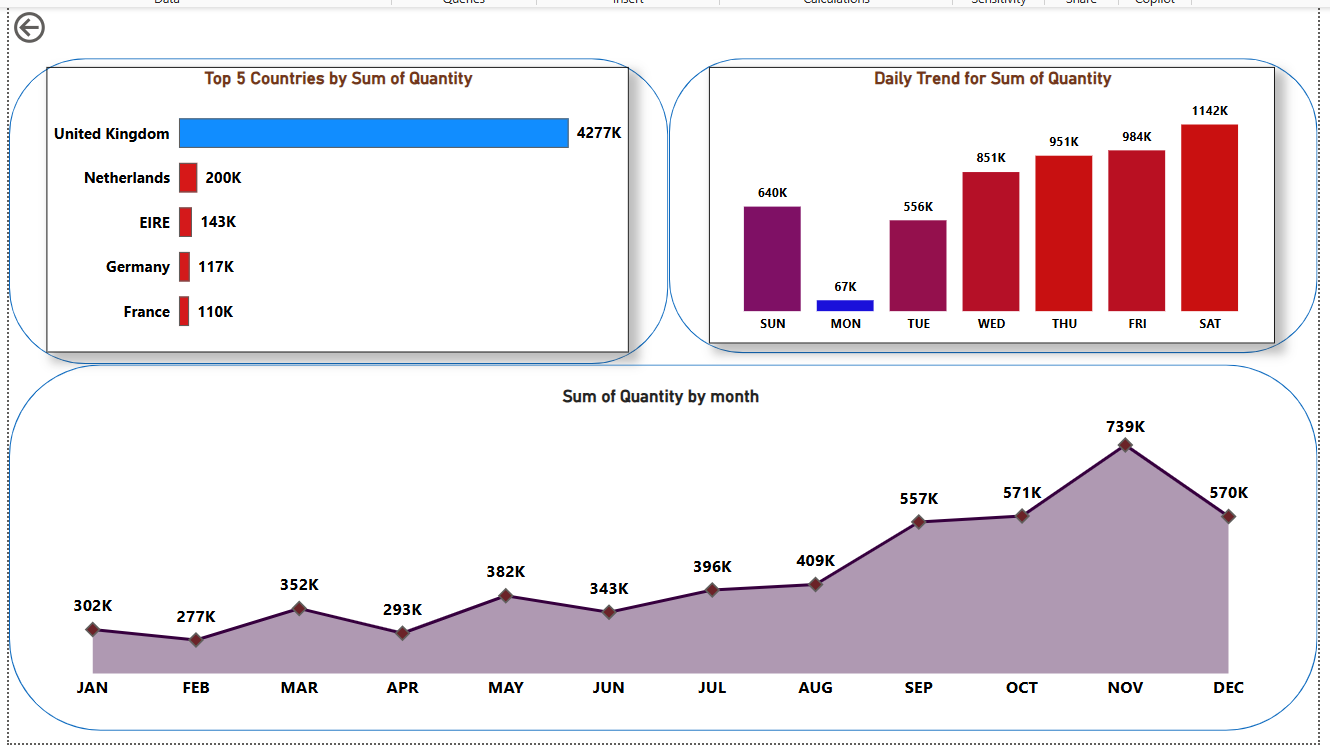

The dashboard page shown, as its layout file describes it:
{"tool":"powerbi","page":{"name":"Page 3","canvas":[1280,720],"ordinal":2},"visuals":[{"type":"shape","box":[0,50.1,645.7,299.6],"z":0},{"type":"barChart","title":"Top 5 Countries by Sum of Quantity","fields":{"Category":["Online Retail.Country"],"Y":["Sum(Online Retail.Quantity)"]},"box":[36.7,58.7,569.8,278.8],"z":1000},{"type":"actionButton","box":[0,0,100,40],"z":2000},{"type":"shape","box":[645.7,50.1,634.7,288.6],"z":3000},{"type":"columnChart","title":"Daily Trend for Sum of Quantity","fields":{"Category":["Online Retail.O_day"],"Y":["Sum(Online Retail.Quantity)"]},"box":[684.8,58.7,553.9,270.2],"z":4000},{"type":"shape","box":[0,349.7,1260.7,337.5],"z":5000},{"type":"areaChart","title":"Sum of Quantity by month","fields":{"Category":["Online Retail.O_month"],"Y":["Sum(Online Retail.Quantity)"]},"box":[36.7,384,1202,286.1],"z":6000}]}

Visuals, with their boxes in screenshot pixels (x1, y1, x2, y2):
shape: BBox(3, 58, 665, 365)
"Top 5 Countries by Sum of Quantity" barChart: BBox(41, 67, 625, 353)
actionButton: BBox(3, 7, 106, 48)
shape: BBox(665, 58, 1315, 354)
"Daily Trend for Sum of Quantity" columnChart: BBox(705, 67, 1273, 344)
shape: BBox(3, 365, 1295, 711)
"Sum of Quantity by month" areaChart: BBox(41, 400, 1273, 694)
